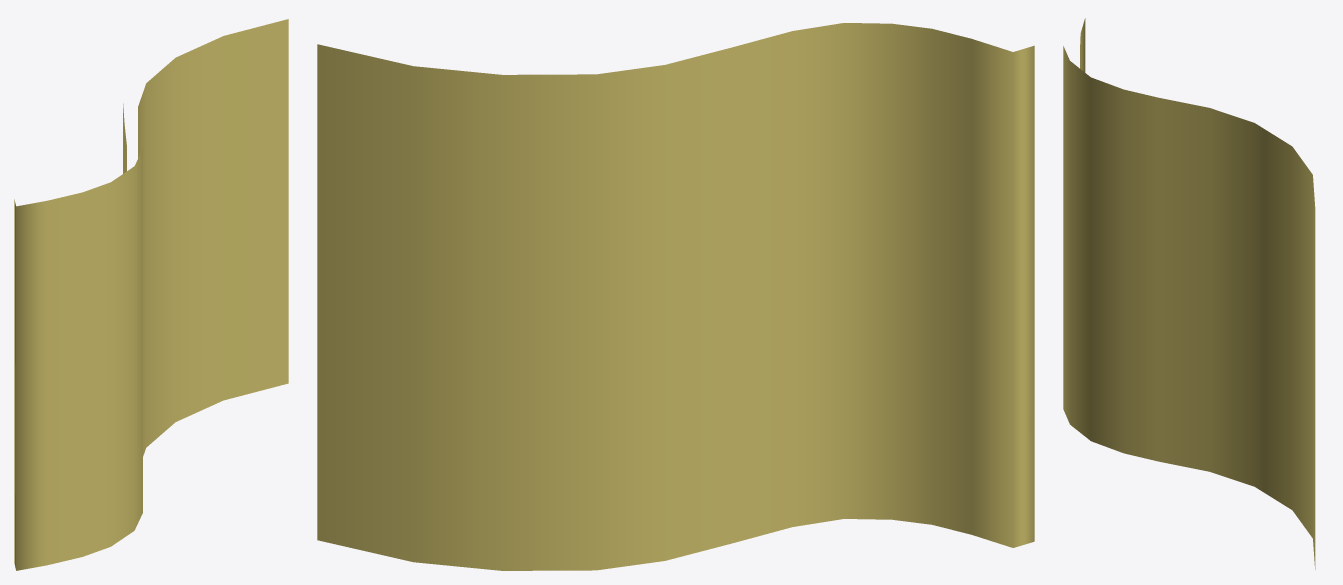
Rendered from anterior-fasciculus-proprius.glb.
The picture shows the model from 3 angles, left to right: view 1: azimuth 30°, elevation 25°; view 2: azimuth 150°, elevation 25°; view 3: azimuth 270°, elevation 25°; orthographic projection. The views are drawn at different scales.
Parts seen in each view (by area): view 1: Anterior fasciculus proprius; view 2: Anterior fasciculus proprius; view 3: Anterior fasciculus proprius.
Boxes of the visible parts, x1=… form: Anterior fasciculus proprius: x1=14, y1=19, x2=288, y2=570; Anterior fasciculus proprius: x1=317, y1=23, x2=1034, y2=570; Anterior fasciculus proprius: x1=1063, y1=18, x2=1315, y2=569.
Bounding box in the file's own units: 0.00569 × 0.005 × 0.00331.
